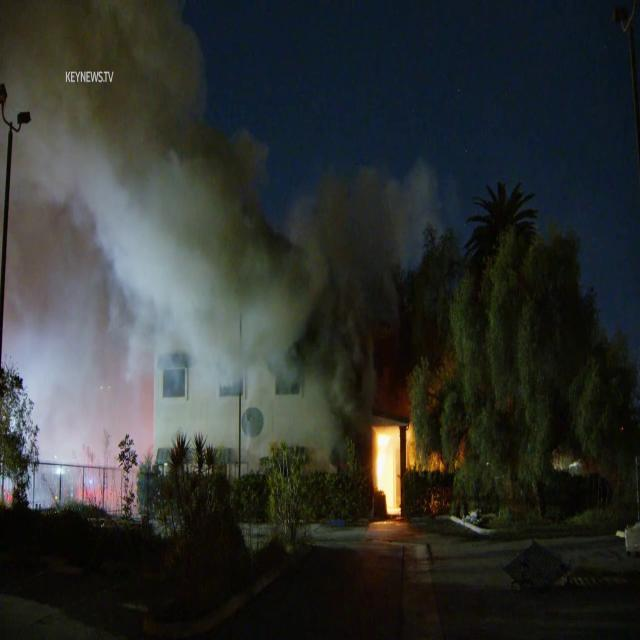Fire: (368, 418, 418, 518), (427, 448, 445, 478)
Smoke: (0, 0, 347, 468)
